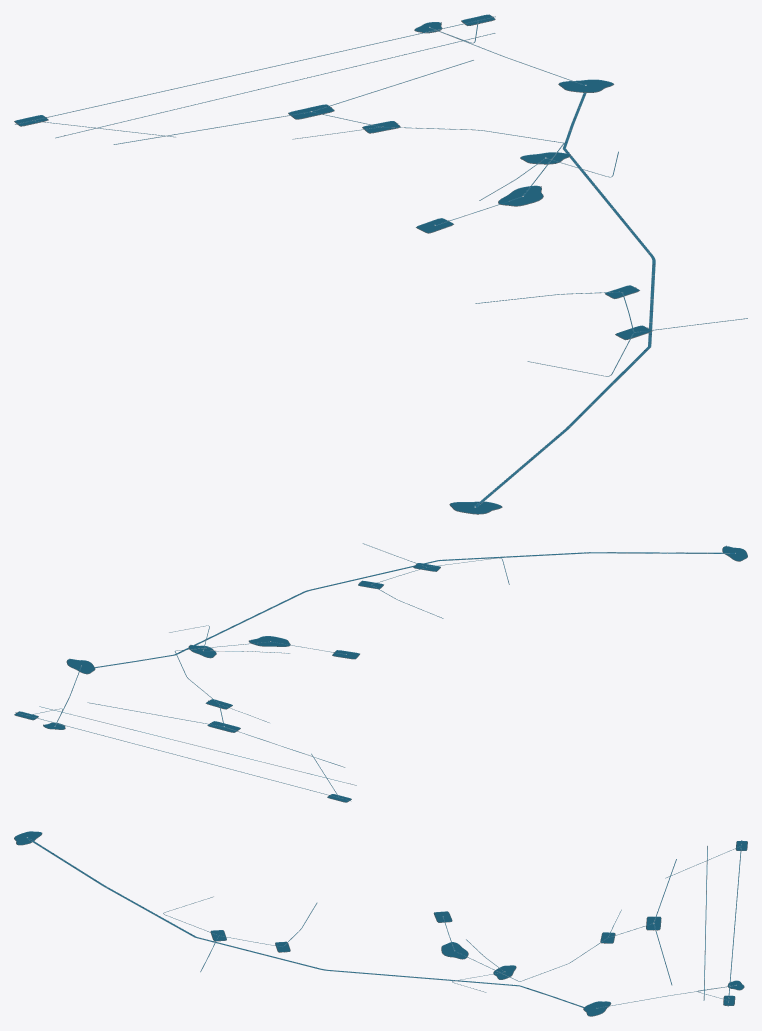
Rendered from lien_khuong_airfield_perimeter_drainage_canals_and_phu_hoi_eco_basins_auto_b05.glb.
The picture shows the model from 3 angles, top to bottom: view 1: azimuth 30°, elevation 25°; view 2: azimuth 150°, elevation 25°; view 3: azimuth 270°, elevation 25°; orthographic projection. The views are drawn at different scales.
Parts seen in each view (by area): view 1: airfield_basins_phu_hoi_lagoons_and_canals_water_blend, airfield_box_culvert_concrete_channels; view 2: airfield_basins_phu_hoi_lagoons_and_canals_water_blend, airfield_box_culvert_concrete_channels, da_nhim_basalt_stone_revetments; view 3: airfield_basins_phu_hoi_lagoons_and_canals_water_blend, airfield_box_culvert_concrete_channels, da_nhim_basalt_stone_revetments.
Boxes of the visible parts, left/top/right/bottom form: airfield_basins_phu_hoi_lagoons_and_canals_water_blend: left=15, top=14, right=747, bottom=513; airfield_box_culvert_concrete_channels: left=15, top=16, right=747, bottom=507; airfield_basins_phu_hoi_lagoons_and_canals_water_blend: left=14, top=543, right=747, bottom=802; airfield_box_culvert_concrete_channels: left=15, top=544, right=729, bottom=798; da_nhim_basalt_stone_revetments: left=14, top=547, right=747, bottom=802; airfield_basins_phu_hoi_lagoons_and_canals_water_blend: left=14, top=831, right=747, bottom=1016; airfield_box_culvert_concrete_channels: left=29, top=839, right=742, bottom=1015; da_nhim_basalt_stone_revetments: left=14, top=833, right=747, bottom=1016.
Size of the model in its own units: 3987 by 99.4 by 6412.
